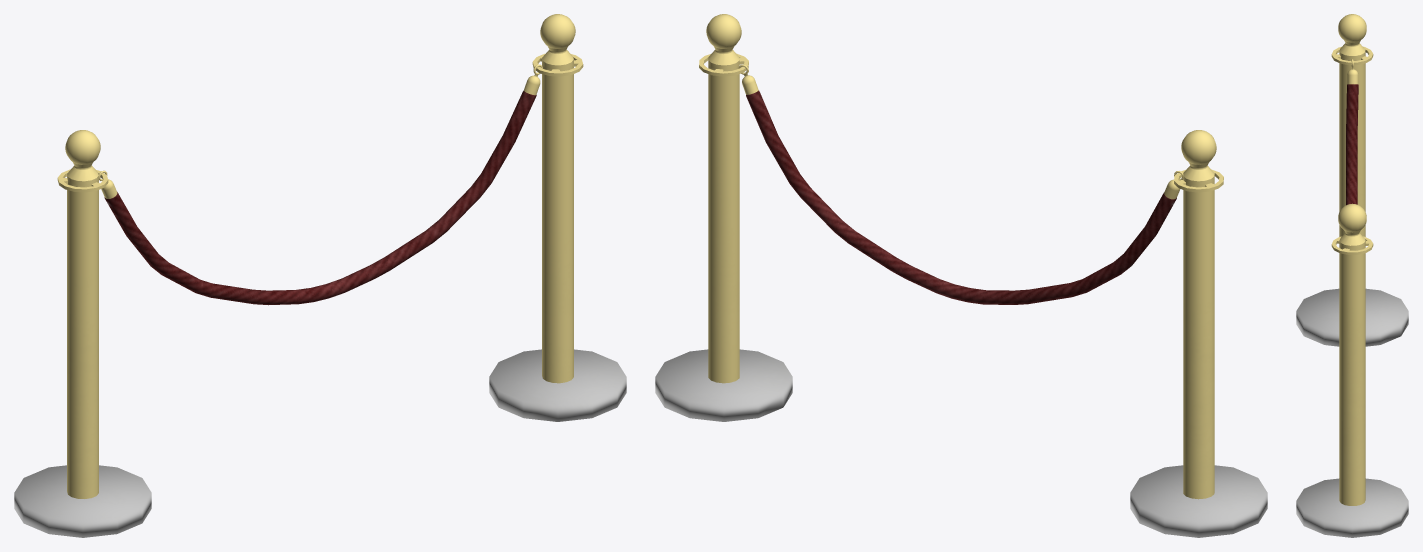
The model's file is Cordon.fbx.
3 views of the same model, side by side, from view 1: azimuth 30°, elevation 25°; view 2: azimuth 150°, elevation 25°; view 3: azimuth 270°, elevation 25° (orthographic). The views are drawn at different scales.
Visible parts, largest first — view 1: Cordon; view 2: Cordon; view 3: Cordon.
Boxes of the visible parts, x1=… form: Cordon: x1=14, y1=14, x2=626, y2=537; Cordon: x1=655, y1=14, x2=1267, y2=537; Cordon: x1=1296, y1=14, x2=1408, y2=537.
Size of the model in its own units: 172 by 105 by 34.5.
